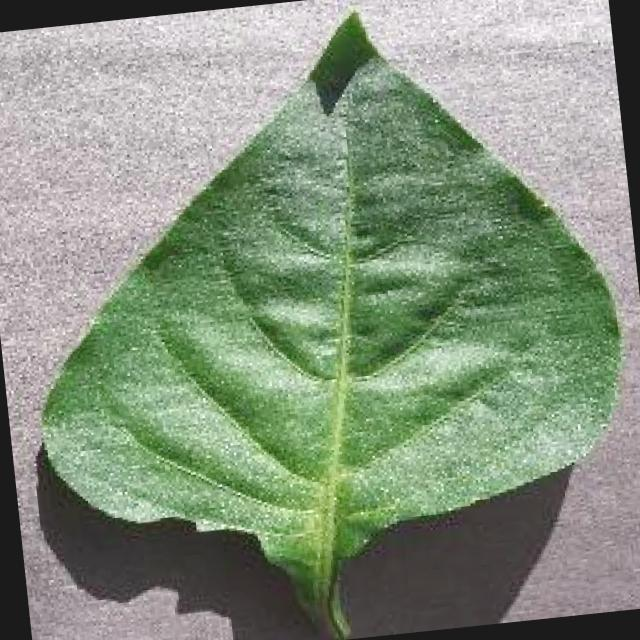Leaf: (21, 0, 640, 629)
